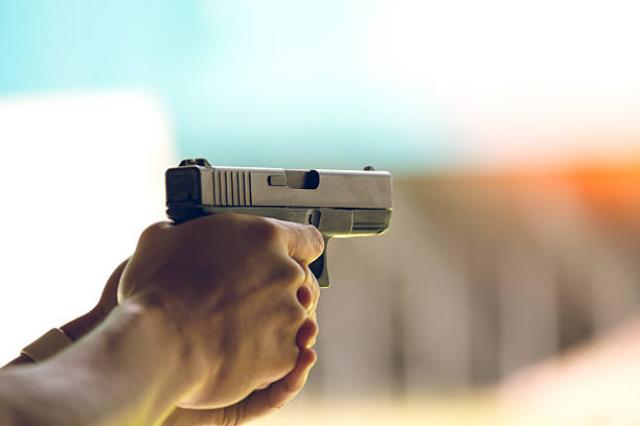handgun: (160, 154, 396, 304)
